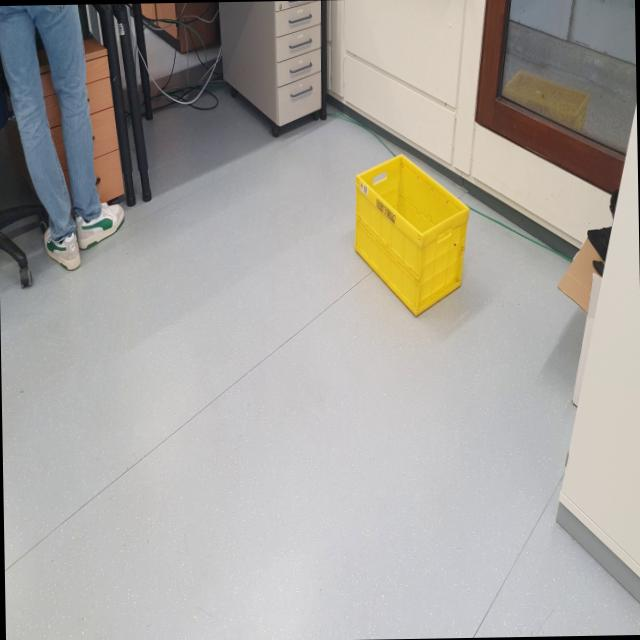box: (346, 138, 480, 329)
